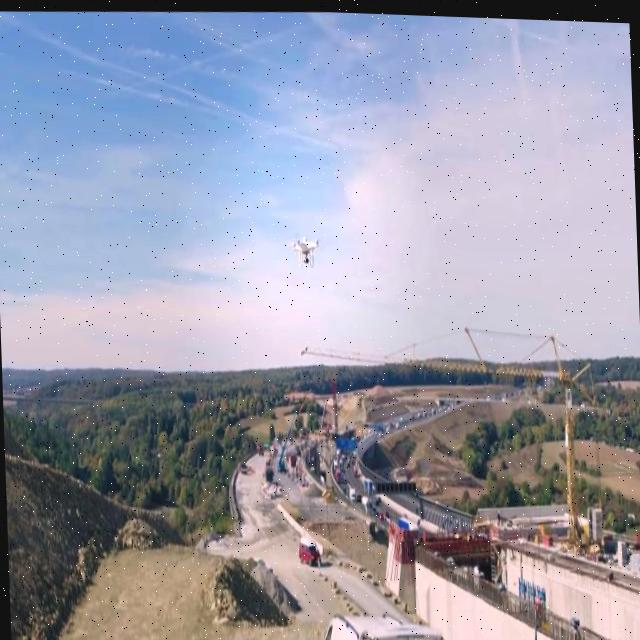drone: (288, 227, 322, 267)
